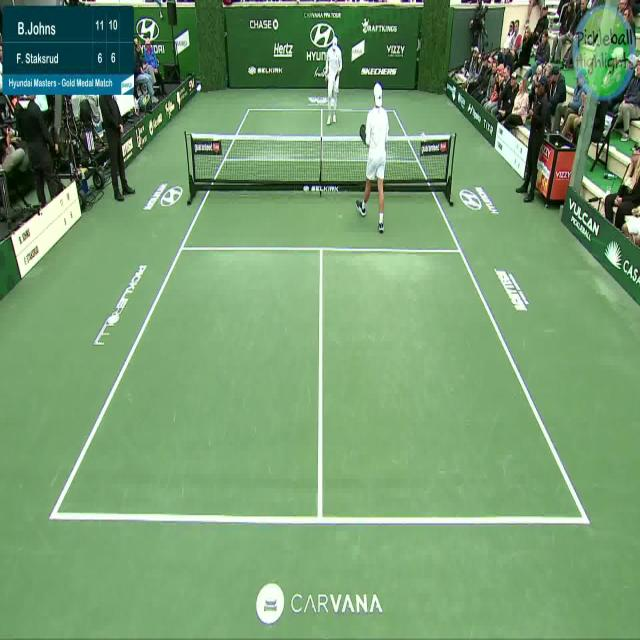Court: (49, 109, 591, 522)
